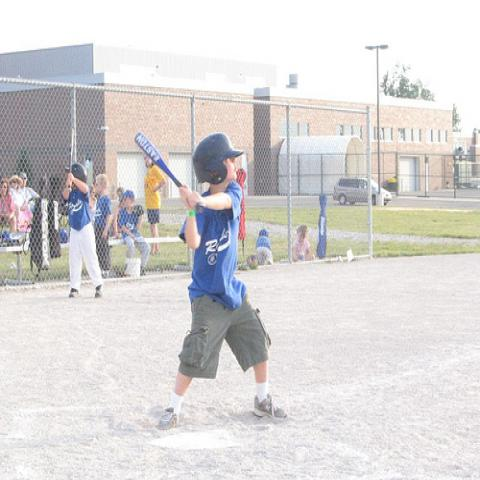car: (333, 176, 392, 206)
